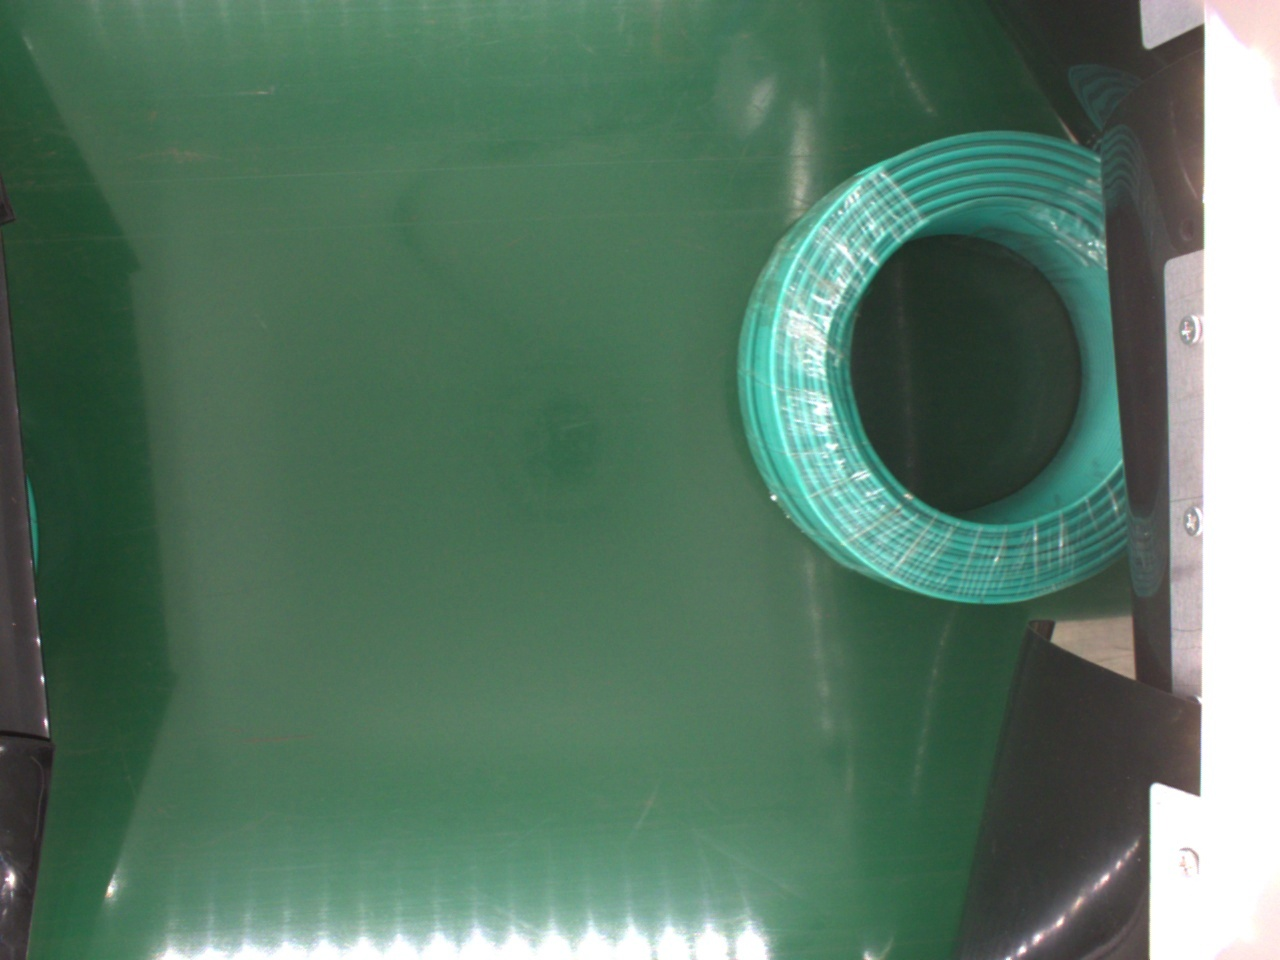green: (734, 129, 1139, 609)
